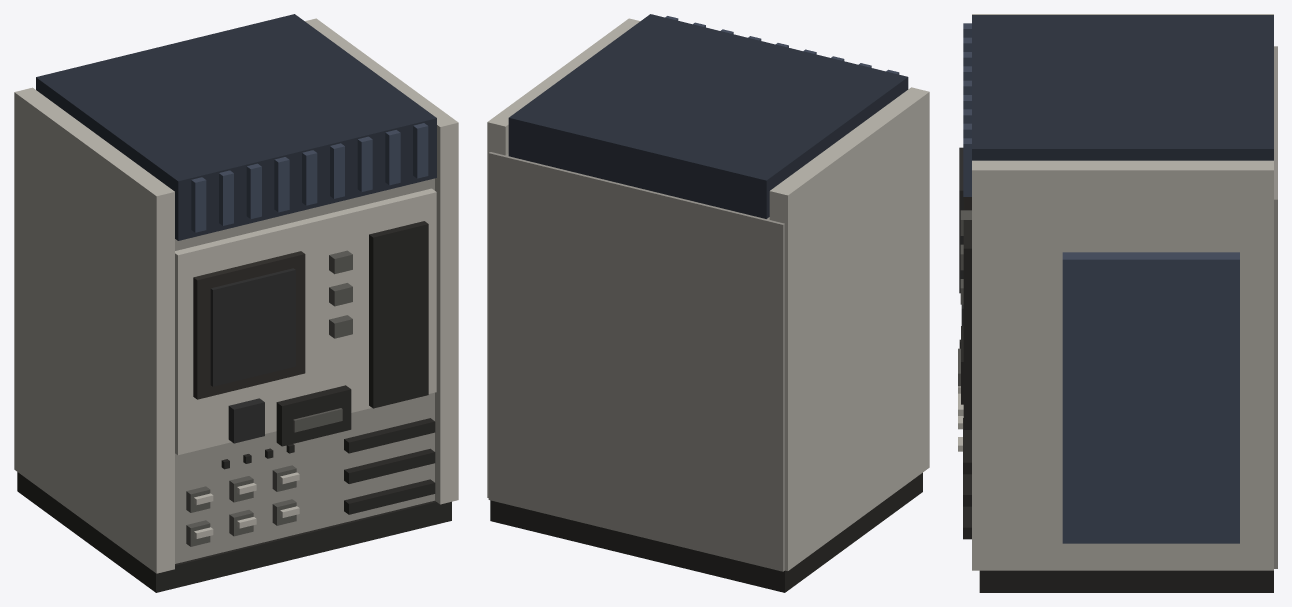
File: CMU3DColonyGenerator.glb
3 views of the same model, side by side, from view 1: azimuth 30°, elevation 25°; view 2: azimuth 150°, elevation 25°; view 3: azimuth 270°, elevation 25° (orthographic). The views are drawn at different scales.
Visible parts, largest first — view 1: left casing edge, top grille housing, front instrument fascia, generator cabinet, tall right access hatch, right casing edge, base skid, wide left dark display, top grille bar (×9), wide left display border, lower right ventilation (×3), lower readout surround (+2 smaller); view 2: generator cabinet, left casing edge, top grille housing, base skid, right casing edge; view 3: right casing edge, right conduit, top grille housing, base skid, generator cabinet, tall right access hatch, wide left dark display, top grille bar.
Part boxes in pixels (x1=…): left casing edge: x1=14, y1=87, x2=174, y2=573; top grille housing: x1=36, y1=14, x2=436, y2=240; front instrument fascia: x1=175, y1=188, x2=436, y2=455; generator cabinet: x1=175, y1=178, x2=434, y2=563; tall right access hatch: x1=369, y1=221, x2=428, y2=408; right casing edge: x1=305, y1=18, x2=458, y2=504; base skid: x1=17, y1=472, x2=451, y2=592; wide left dark display: x1=210, y1=268, x2=295, y2=386; top grille bar (×9): x1=191, y1=123, x2=428, y2=232; wide left display border: x1=193, y1=251, x2=305, y2=399; lower right ventilation (×3): x1=344, y1=418, x2=435, y2=514; lower readout surround: x1=276, y1=385, x2=351, y2=446; generator cabinet: x1=488, y1=152, x2=784, y2=571; left casing edge: x1=769, y1=87, x2=929, y2=570; top grille housing: x1=508, y1=14, x2=908, y2=218; base skid: x1=490, y1=472, x2=922, y2=592; right casing edge: x1=487, y1=18, x2=640, y2=497; right casing edge: x1=972, y1=160, x2=1273, y2=570; right conduit: x1=1062, y1=252, x2=1239, y2=543; top grille housing: x1=972, y1=15, x2=1273, y2=160; base skid: x1=979, y1=570, x2=1273, y2=592; generator cabinet: x1=1274, y1=46, x2=1277, y2=568; tall right access hatch: x1=963, y1=220, x2=971, y2=429; wide left dark display: x1=959, y1=147, x2=964, y2=293; top grille bar: x1=963, y1=138, x2=971, y2=196.
Size of the model in its own units: 1.02 by 1.27 by 0.847.
